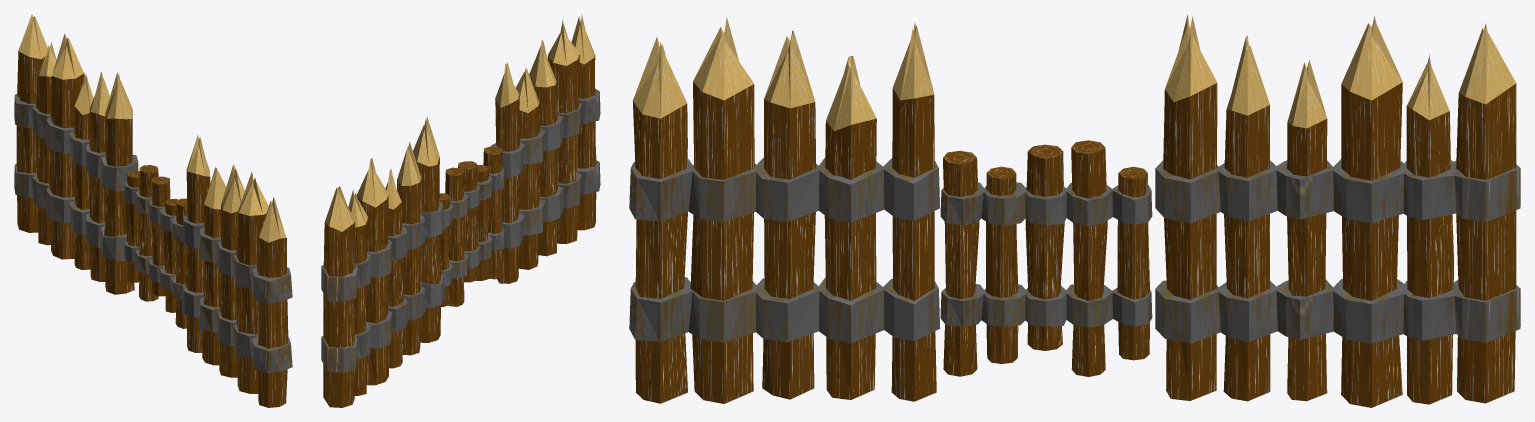
File: Barricada_cambio_lvl.obj
3 views of the same model, side by side, from view 1: azimuth 30°, elevation 25°; view 2: azimuth 150°, elevation 25°; view 3: azimuth 270°, elevation 25° (orthographic). The views are drawn at different scales.
Parts seen in each view (by area): view 1: barricada.003, barricada_puerta.001; view 2: barricada.003, barricada_puerta.001; view 3: barricada.003, barricada_puerta.001.
Part boxes in pixels (<box>): barricada.003: <box>14,14,292,407</box>; barricada_puerta.001: <box>124,165,187,328</box>; barricada.003: <box>321,14,600,407</box>; barricada_puerta.001: <box>439,146,504,306</box>; barricada.003: <box>629,15,1520,407</box>; barricada_puerta.001: <box>940,140,1152,376</box>.
Size of the model in its own units: 2.17 by 12.39 by 26.34.
Materials: 1 (1 with a texture image).
